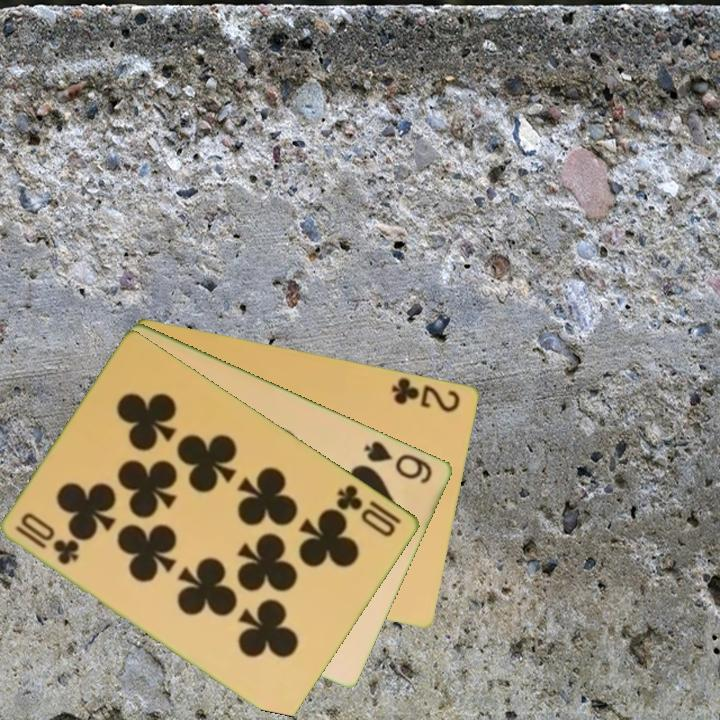10c: (333, 480, 405, 540), (12, 521, 83, 568)
2c: (388, 374, 464, 415)
6s: (361, 437, 436, 486)
